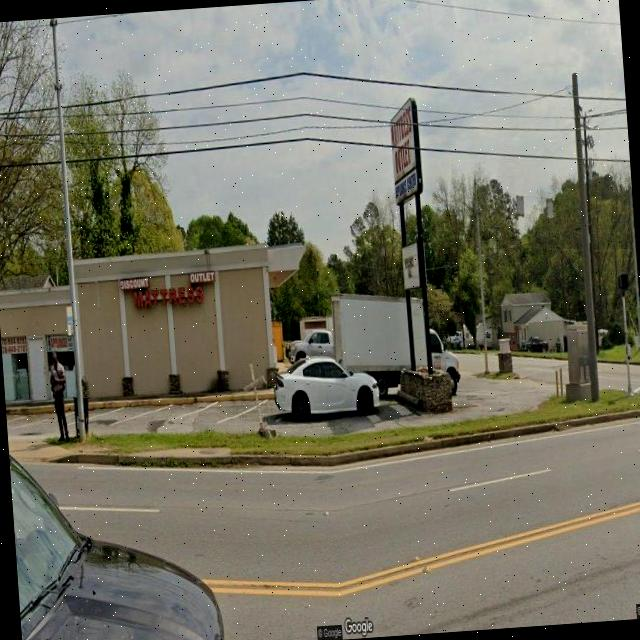trash_can: (72, 392, 90, 437)
